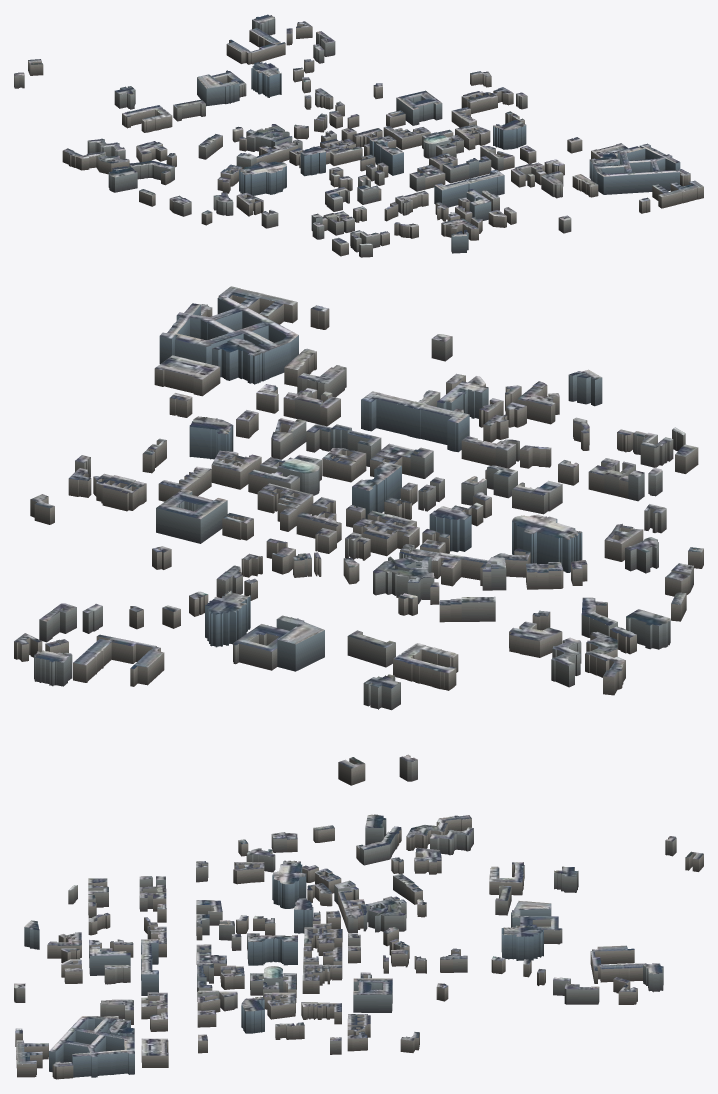
The picture shows the model from 3 angles, top to bottom: view 1: azimuth 30°, elevation 25°; view 2: azimuth 150°, elevation 25°; view 3: azimuth 270°, elevation 25°; orthographic projection. The views are drawn at different scales.
Size of the model in its own units: 969 by 44.44 by 1126.
Materials: 2 (2 with a texture image).
